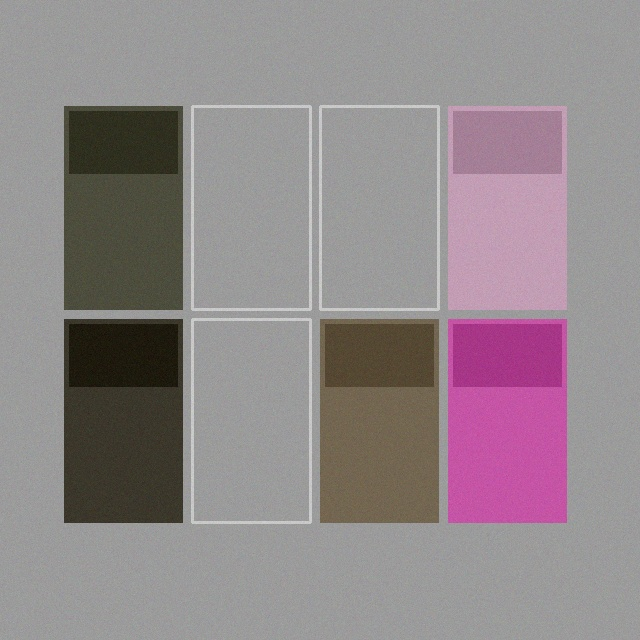space-empty: (192, 106, 310, 309), (320, 106, 438, 309), (192, 319, 310, 522)
space-occupied: (64, 106, 182, 309), (448, 106, 566, 309), (64, 319, 182, 522), (320, 319, 438, 522), (448, 319, 566, 522)
